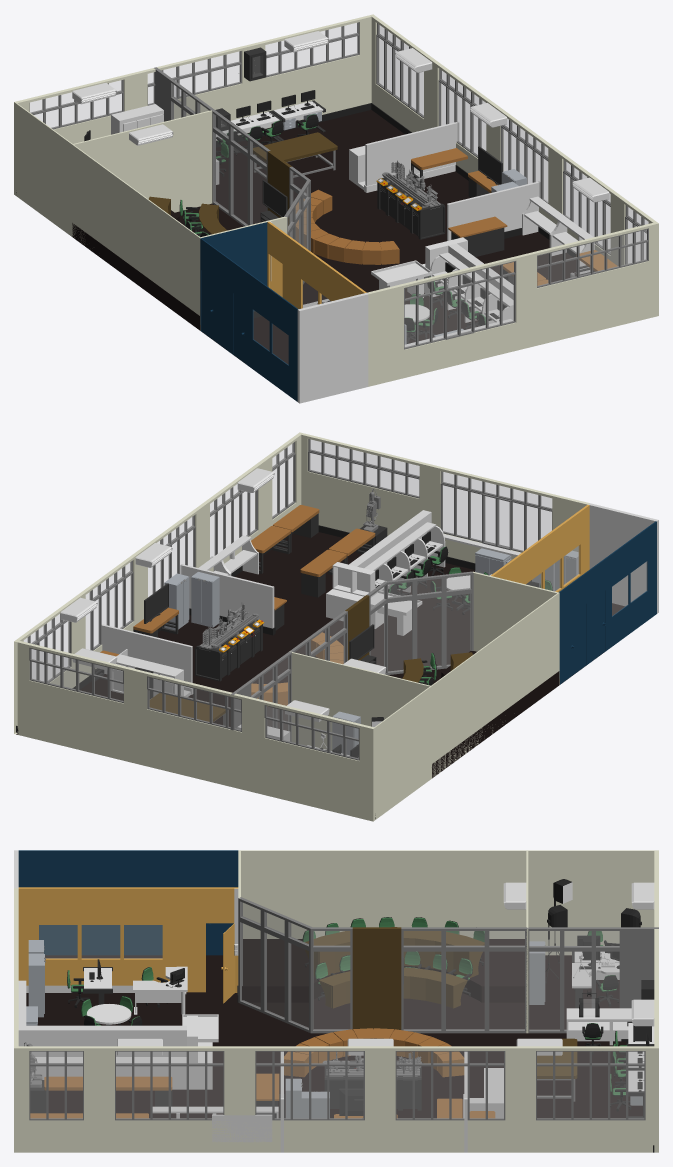
File: Senai Lab v2.fbx
3 views of the same model, one above another, from view 1: azimuth 30°, elevation 25°; view 2: azimuth 150°, elevation 25°; view 3: azimuth 270°, elevation 25° (orthographic). The views are drawn at different scales.
Parts seen in each view (by area): view 1: Plano, Plano.001, Plano.017, Plano.021, Plano.045, Plano.004, Plano.019, Plano.018, Plano.032, Plano.022, Plano.023, Plano.050 (+38 smaller); view 2: Plano.001, Plano, Plano.017, Plano.023, Plano.019, Plano.022, Plano.004, Plano.045, Plano.021, Plano.032, Plano.052, Plano.002 (+42 smaller); view 3: Plano.017, Plano.001, Plano, Plano.002, Plano.032, Plano.050, Plano.028, Plano.042, Plano.049, Plano.048, Plano.003, Plano.052 (+44 smaller).
Boxes of the visible parts, left/top/right/bottom form: Plano: left=175, top=110, right=576, bottom=364; Plano.001: left=14, top=102, right=200, bottom=330; Plano.017: left=370, top=14, right=621, bottom=265; Plano.021: left=366, top=254, right=526, bottom=386; Plano.045: left=524, top=222, right=658, bottom=347; Plano.004: left=72, top=110, right=287, bottom=311; Plano.019: left=252, top=15, right=371, bottom=128; Plano.018: left=297, top=293, right=368, bottom=403; Plano.032: left=200, top=238, right=298, bottom=401; Plano.022: left=134, top=44, right=253, bottom=140; Plano.023: left=14, top=73, right=136, bottom=195; Plano.050: left=214, top=115, right=266, bottom=224; Plano.001: left=372, top=592, right=559, bottom=819; Plano: left=16, top=532, right=624, bottom=734; Plano.017: left=14, top=459, right=266, bottom=734; Plano.023: left=253, top=698, right=375, bottom=821; Plano.019: left=17, top=641, right=136, bottom=763; Plano.022: left=135, top=669, right=254, bottom=792; Plano.004: left=289, top=571, right=558, bottom=778; Plano.045: left=298, top=432, right=431, bottom=535; Plano.021: left=430, top=464, right=589, bottom=563; Plano.032: left=559, top=521, right=656, bottom=684; Plano.052: left=388, top=575, right=470, bottom=671; Plano.002: left=490, top=504, right=589, bottom=592; Plano.017: left=97, top=1046, right=658, bottom=1152; Plano.001: left=239, top=850, right=658, bottom=955; Plano: left=26, top=955, right=642, bottom=1118; Plano.002: left=18, top=887, right=238, bottom=992; Plano.032: left=18, top=850, right=238, bottom=955; Plano.050: left=404, top=931, right=524, bottom=1029; Plano.028: left=310, top=927, right=527, bottom=1033; Plano.042: left=18, top=1046, right=97, bottom=1152; Plano.049: left=529, top=931, right=619, bottom=1030; Plano.048: left=242, top=939, right=524, bottom=1002; Plano.003: left=18, top=1025, right=186, bottom=1089; Plano.052: left=241, top=902, right=308, bottom=1028.
Size of the model in its own units: 1289 by 1763 by 316.
